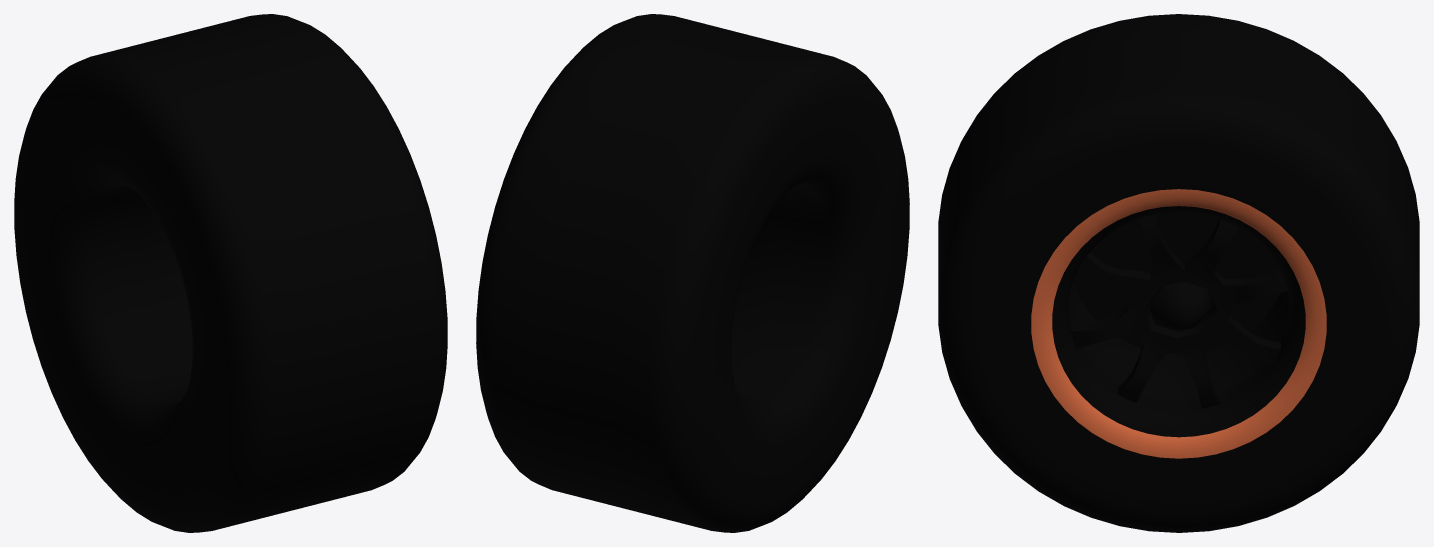
The model's file is Tyre_Front_Left_.glb.
3 views of the same model, side by side, from view 1: azimuth 30°, elevation 25°; view 2: azimuth 150°, elevation 25°; view 3: azimuth 270°, elevation 25° (orthographic).
Visible parts, largest first — view 1: Tyre_Front_Left_-Tire, Rim_Front_Left_; view 2: Tyre_Front_Left_-Tire, Rim_Front_Left_; view 3: Tyre_Front_Left_-Tire, Rim_Front_Left_, Tyre_Front_Left_-Red.
Part boxes in pixels (left/top/right/bottom): Tyre_Front_Left_-Tire: left=14, top=14, right=447, bottom=532; Rim_Front_Left_: left=133, top=197, right=192, bottom=384; Tyre_Front_Left_-Tire: left=476, top=14, right=909, bottom=532; Rim_Front_Left_: left=731, top=197, right=790, bottom=384; Tyre_Front_Left_-Tire: left=938, top=14, right=1419, bottom=532; Rim_Front_Left_: left=1060, top=212, right=1297, bottom=428; Tyre_Front_Left_-Red: left=1031, top=189, right=1326, bottom=458.
Size of the model in its own units: 36.61 by 70.82 by 70.39.
